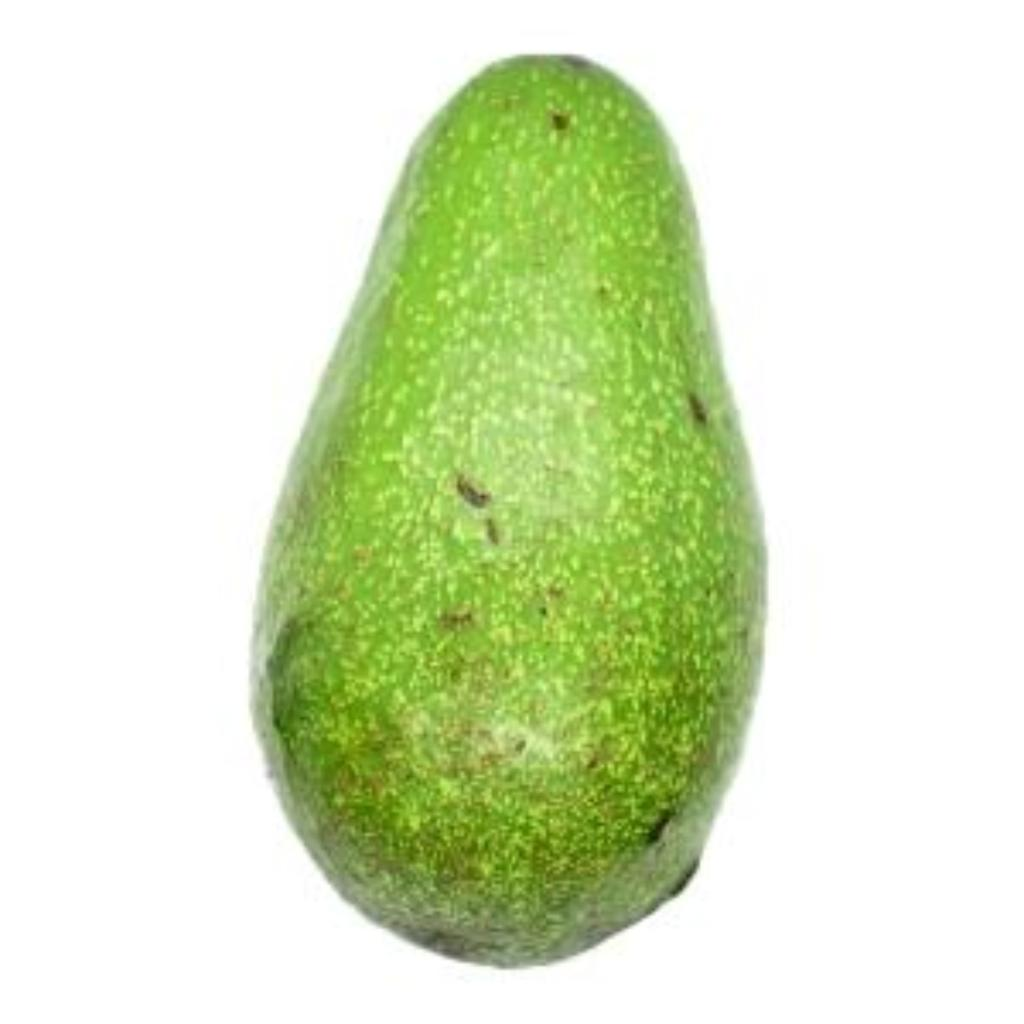cercospora_spot: (246, 44, 778, 962)
